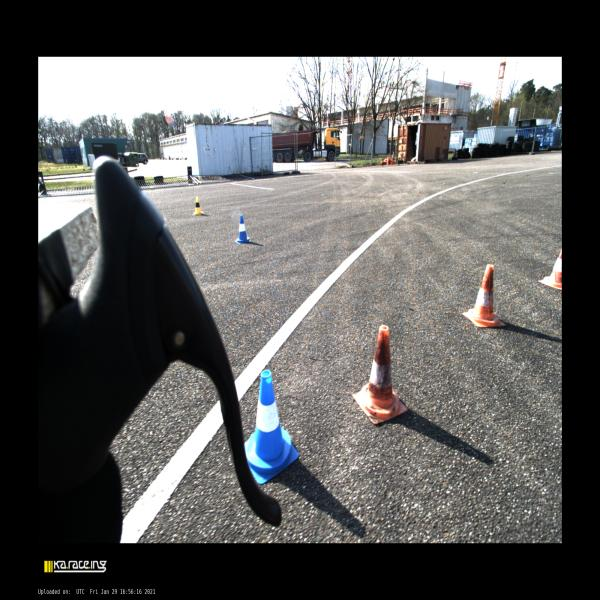blue_cone: (244, 370, 299, 484), (235, 215, 251, 244)
orange_cone: (352, 325, 408, 424), (462, 264, 506, 327), (538, 247, 561, 291)
yellow_cone: (192, 197, 204, 215)
